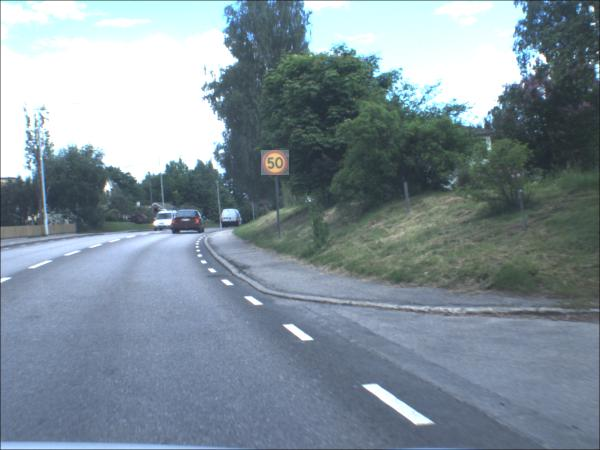50_SIGN: (262, 151, 291, 177)
